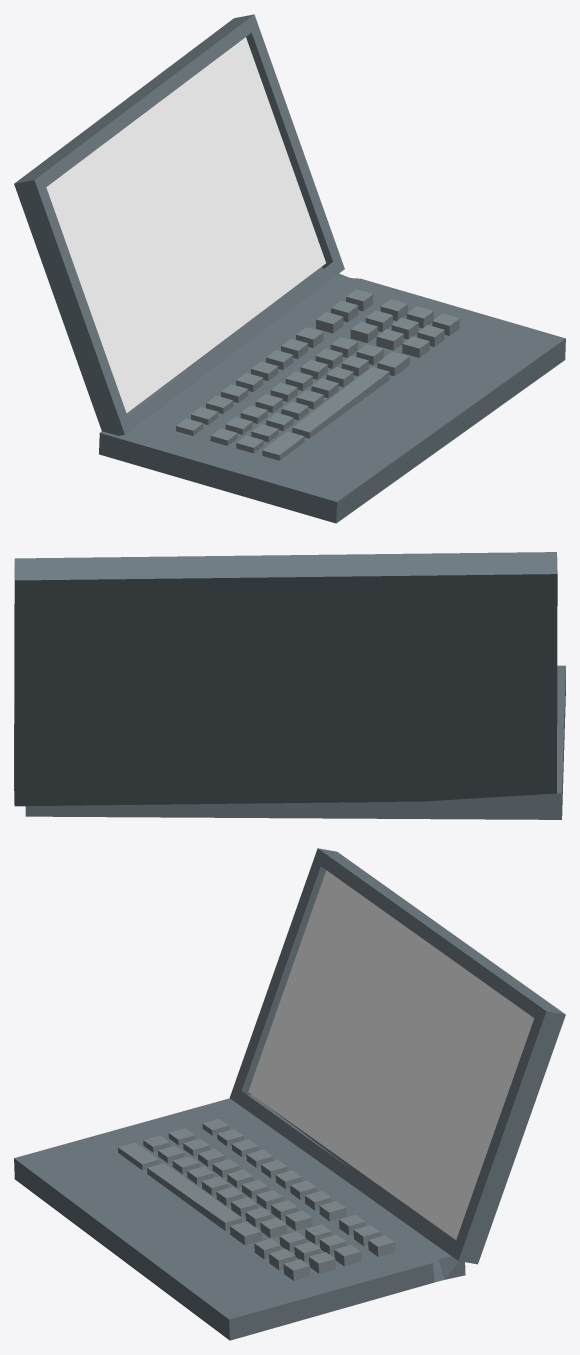
The model's file is laptop.glb.
3 views of the same model, one above another, from view 1: azimuth 30°, elevation 25°; view 2: azimuth 150°, elevation 25°; view 3: azimuth 270°, elevation 25° (orthographic). The views are drawn at different scales.
Parts seen in each view (by area): view 1: laptop; view 2: laptop; view 3: laptop.
Boxes of the visible parts, x1,y1,x2,y2 form: laptop: (14, 14, 565, 523); laptop: (14, 552, 565, 819); laptop: (14, 848, 565, 1340).
Size of the model in its own units: 0.4777 by 0.2447 by 0.4695.
